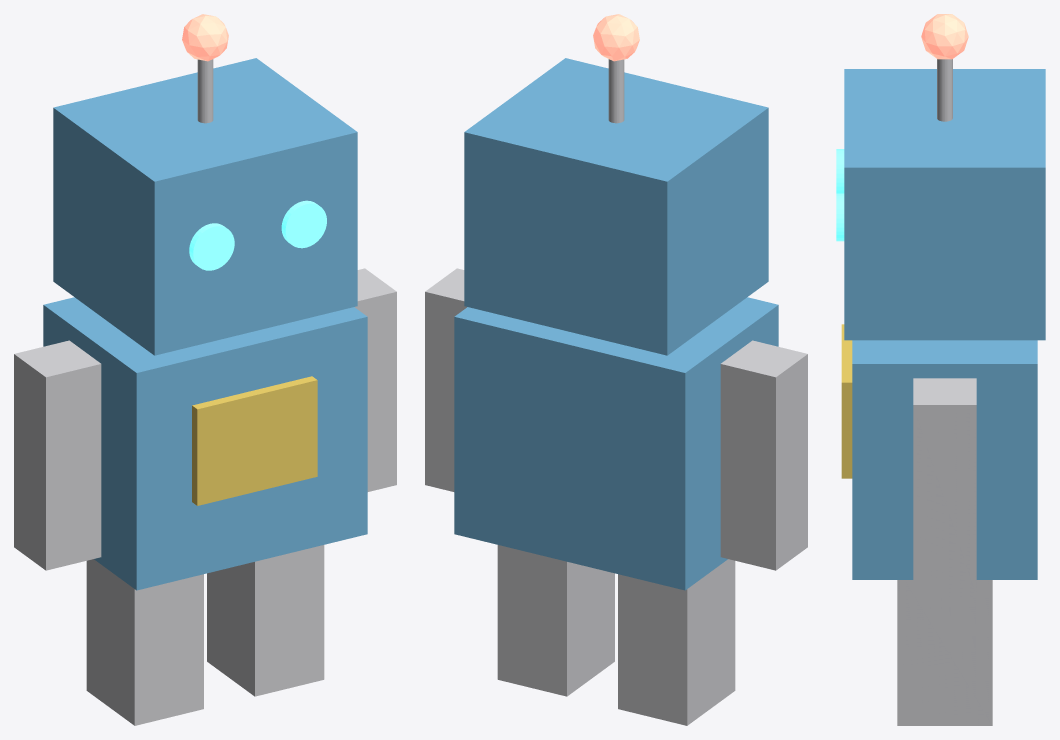
Rendered from robot.glb.
3 renders of one model, left to right at view 1: azimuth 30°, elevation 25°; view 2: azimuth 150°, elevation 25°; view 3: azimuth 270°, elevation 25°, orthographic.
Visible parts, largest first — view 1: Head, Body, ArmL, LegL, LegR, ChestPanel, ArmR, AntennaTip, EyeL, EyeR, AntennaRod; view 2: Head, Body, ArmL, LegL, LegR, ArmR, AntennaTip, AntennaRod; view 3: Head, Body, ArmR, LegR, ChestPanel, AntennaTip, AntennaRod, EyeR, EyeL.
Part boxes in pixels (left/top/right/bottom): Head: left=53, top=58, right=357, bottom=355; Body: left=43, top=297, right=367, bottom=590; ArmL: left=14, top=340, right=101, bottom=570; LegL: left=86, top=559, right=203, bottom=725; LegR: left=207, top=545, right=324, bottom=696; ChestPanel: left=192, top=376, right=317, bottom=505; ArmR: left=355, top=268, right=396, bottom=491; AntennaTip: left=182, top=14, right=228, bottom=61; EyeL: left=189, top=223, right=234, bottom=270; EyeR: left=281, top=200, right=326, bottom=248; AntennaRod: left=197, top=59, right=213, bottom=123; Head: left=464, top=58, right=768, bottom=355; Body: left=454, top=297, right=778, bottom=590; ArmL: left=720, top=340, right=807, bottom=570; LegL: left=618, top=559, right=735, bottom=725; LegR: left=497, top=545, right=614, bottom=696; ArmR: left=425, top=268, right=466, bottom=491; AntennaTip: left=593, top=14, right=639, bottom=61; AntennaRod: left=608, top=59, right=624, bottom=123; Head: left=844, top=69, right=1045, bottom=340; Body: left=852, top=340, right=1037, bottom=579; ArmR: left=913, top=378, right=976, bottom=596; LegR: left=897, top=580, right=992, bottom=725; ChestPanel: left=841, top=324, right=852, bottom=478; AntennaTip: left=921, top=14, right=968, bottom=59; AntennaRod: left=937, top=59, right=952, bottom=121; EyeR: left=836, top=193, right=844, bottom=241; EyeL: left=836, top=149, right=844, bottom=193.
Size of the model in its own units: 0.76 by 1.39 by 0.395.
